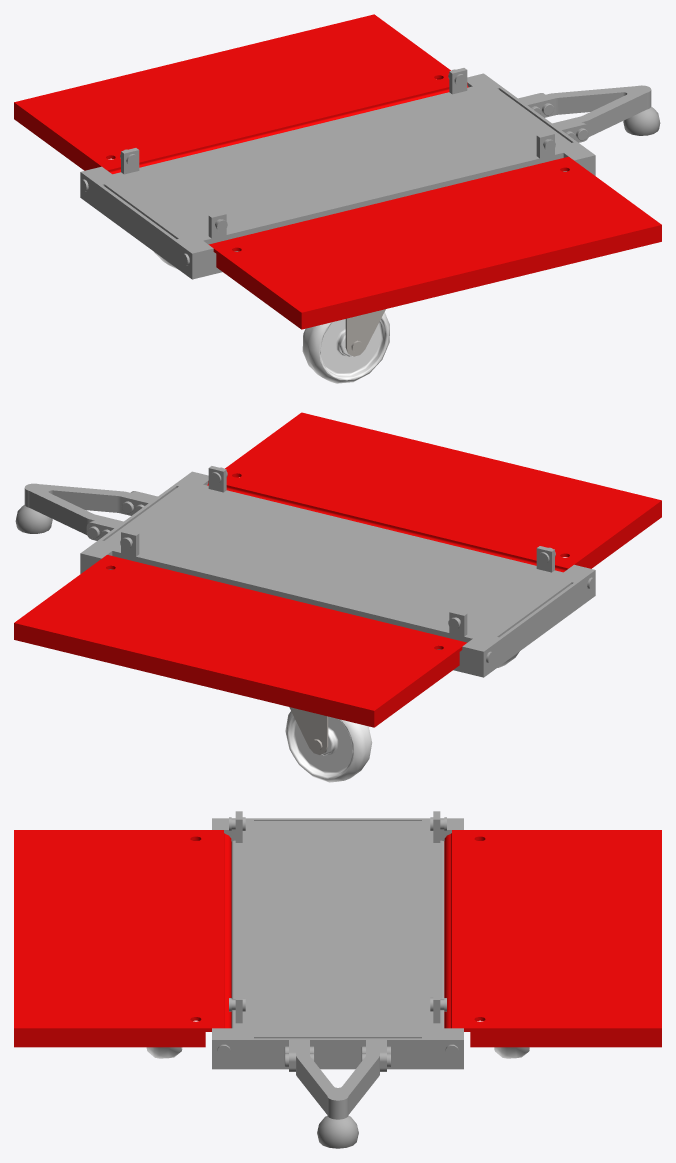
The model's file is semitrailerNEROcolored.obj.
3 views of the same model, one above another, from view 1: azimuth 30°, elevation 25°; view 2: azimuth 150°, elevation 25°; view 3: azimuth 270°, elevation 25° (orthographic). The views are drawn at different scales.
Parts seen in each view (by area): view 1: Solid1:12, Solid1:18, Solid1:17, Solid1:4, Solid1:1, Solid1:3, Solid1; view 2: Solid1:12, Solid1:17, Solid1:18, Solid1:9, Solid1:1, Solid1:8, Solid1; view 3: Solid1:12, Solid1:17, Solid1:18, Solid1:1, Solid1.
Part boxes in pixels (<box>): Solid1:12: <box>80,73,595,279</box>; Solid1:18: <box>208,156,661,329</box>; Solid1:17: <box>14,14,468,174</box>; Solid1:4: <box>302,312,389,383</box>; Solid1:1: <box>521,85,651,136</box>; Solid1:3: <box>345,309,385,356</box>; Solid1: <box>623,106,660,135</box>; Solid1:12: <box>80,471,595,677</box>; Solid1:17: <box>14,555,466,727</box>; Solid1:18: <box>207,412,661,572</box>; Solid1:9: <box>285,711,372,782</box>; Solid1:1: <box>24,483,154,534</box>; Solid1:8: <box>289,707,328,754</box>; Solid1: <box>15,504,52,533</box>; Solid1:12: <box>212,818,463,1071</box>; Solid1:17: <box>444,830,661,1047</box>; Solid1:18: <box>14,830,231,1047</box>; Solid1:1: <box>296,1040,379,1119</box>; Solid1: <box>317,1115,358,1148</box>.
Bounding box in the file's own units: 487 × 146 × 463.
